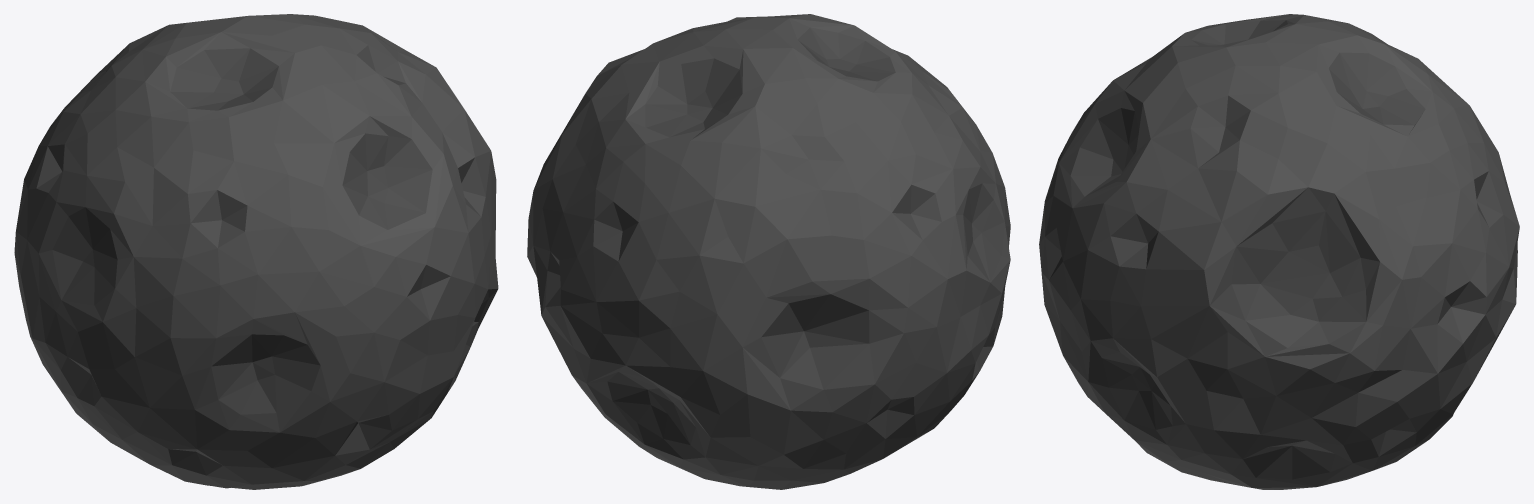
File: moon.glb
3 renders of one model, left to right at view 1: azimuth 30°, elevation 25°; view 2: azimuth 150°, elevation 25°; view 3: azimuth 270°, elevation 25°, orthographic.
Size of the model in its own units: 33.47 by 33.16 by 33.32.
1 material, 1 textured.
